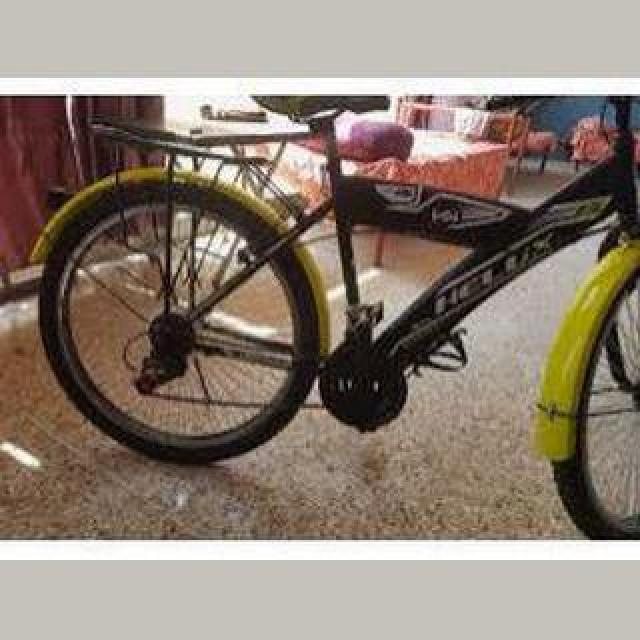Person: (34, 96, 640, 540)
